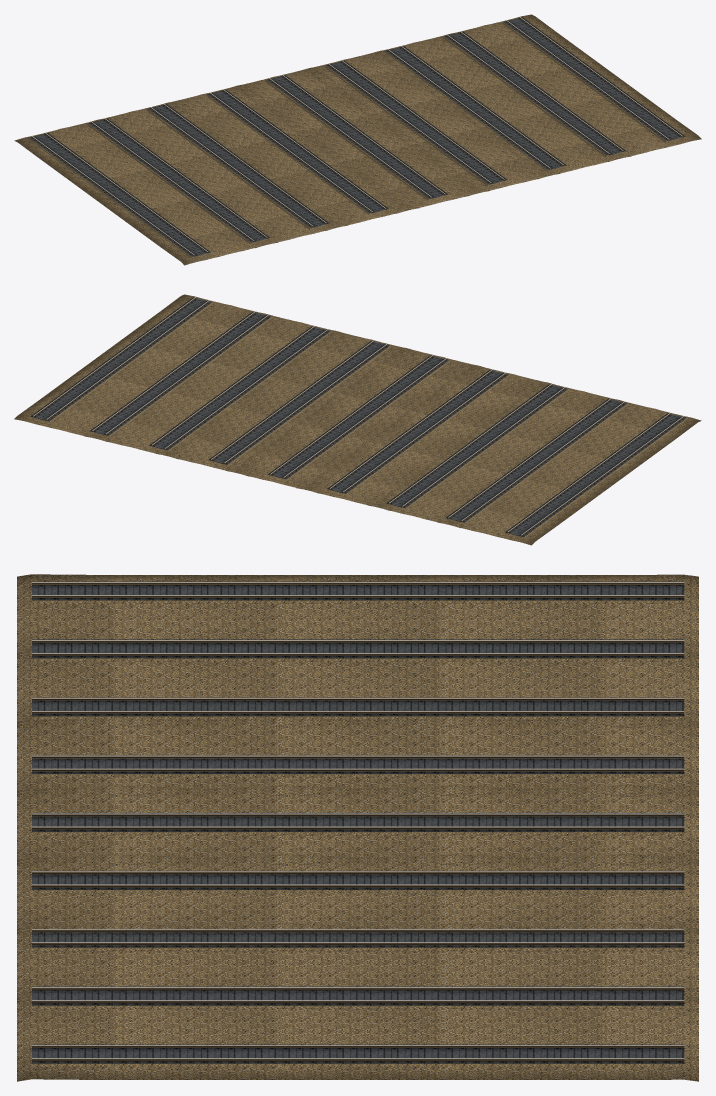
The model's file is UMEDA_9RAIL.glb.
3 views of the same model, one above another, from view 1: azimuth 30°, elevation 25°; view 2: azimuth 150°, elevation 25°; view 3: azimuth 270°, elevation 25° (orthographic). The views are drawn at different scales.
Parts seen in each view (by area): view 1: obj6; view 2: obj6; view 3: obj6.
Part boxes in pixels (box(x1,y1,x2,y2)): obj6: box(14, 14, 701, 265); obj6: box(14, 294, 701, 545); obj6: box(17, 574, 698, 1081).
Size of the model in its own units: 183 by 1.36 by 105.
4 materials, 3 textured.
